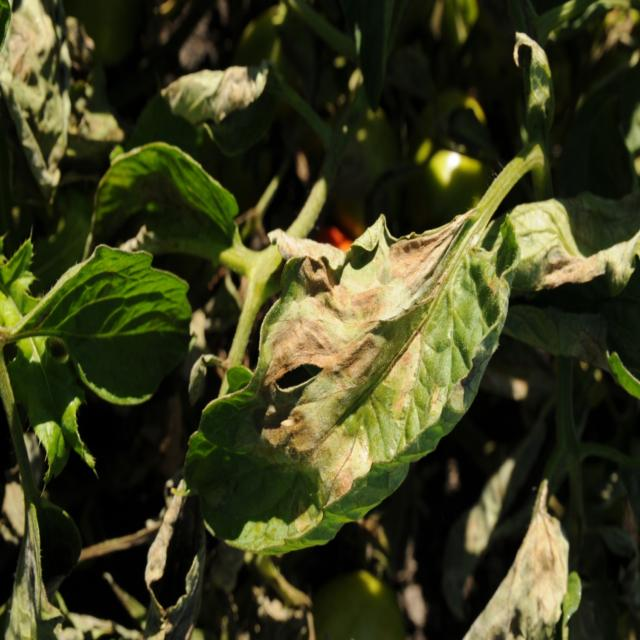Late_blight: (258, 214, 489, 500), (464, 480, 571, 640), (542, 246, 604, 287)
